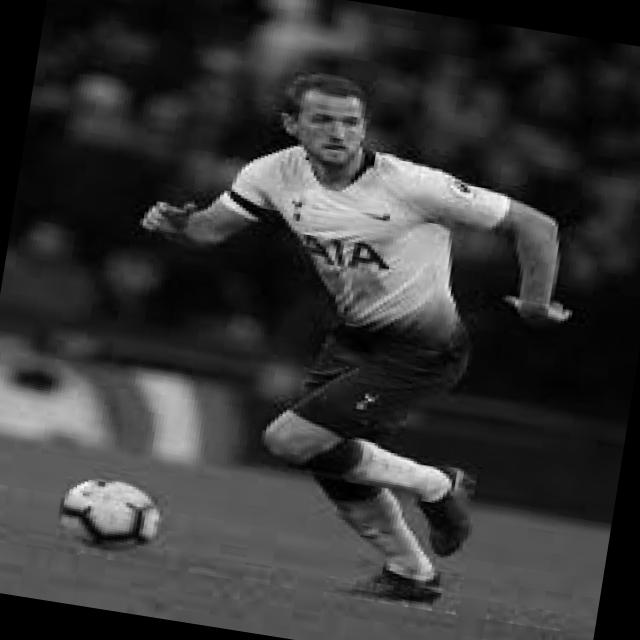football: (45, 460, 165, 568)
